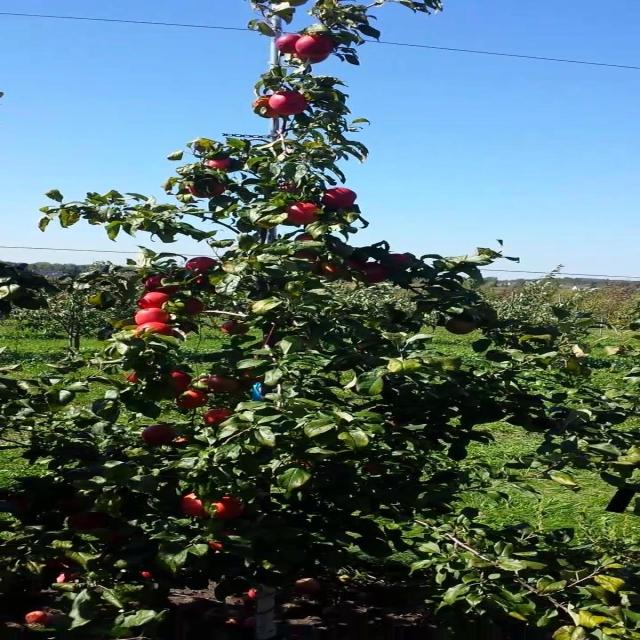apple: (269, 92, 311, 116), (212, 496, 249, 521), (319, 188, 361, 210), (177, 492, 210, 519), (141, 424, 178, 448), (184, 180, 228, 200), (70, 512, 108, 535), (284, 204, 322, 225), (298, 36, 336, 56), (148, 276, 185, 295), (205, 376, 244, 394), (163, 372, 194, 394), (255, 96, 283, 120), (184, 260, 224, 276), (56, 496, 89, 515), (447, 316, 478, 336), (362, 264, 391, 285), (134, 308, 172, 324), (205, 408, 235, 427), (205, 160, 245, 174), (134, 324, 174, 338), (177, 392, 208, 410), (6, 496, 34, 515), (141, 292, 172, 308), (220, 320, 251, 336), (312, 264, 345, 279), (276, 36, 300, 56), (383, 256, 414, 270), (56, 572, 82, 586), (184, 300, 206, 316), (127, 372, 153, 385), (241, 368, 263, 383), (291, 252, 320, 263), (362, 464, 388, 476), (106, 532, 130, 545), (170, 436, 192, 450), (205, 540, 228, 552), (298, 56, 331, 64), (291, 460, 315, 471), (191, 276, 213, 287), (348, 260, 368, 271), (298, 236, 318, 244), (141, 572, 155, 580)
